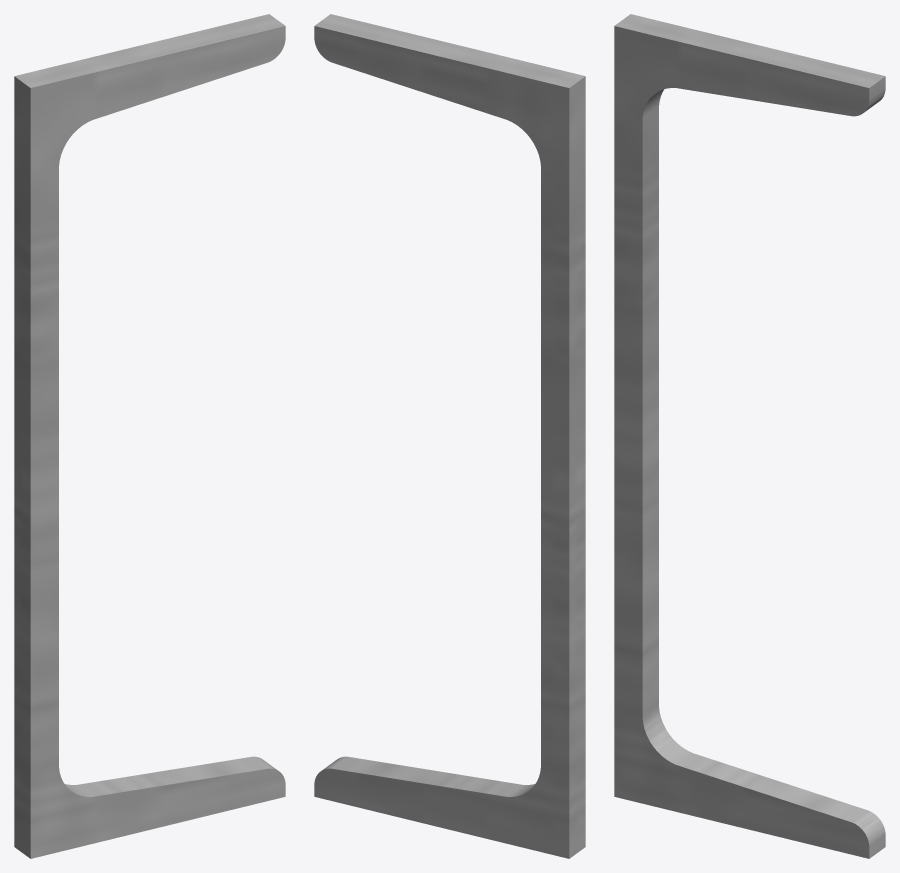
File: UPN260.glb
3 renders of one model, left to right at view 1: azimuth 30°, elevation 25°; view 2: azimuth 150°, elevation 25°; view 3: azimuth 330°, elevation 25°, orthographic.
Size of the model in its own units: 9 by 26 by 1.
Materials: 1 (1 with a texture image).
